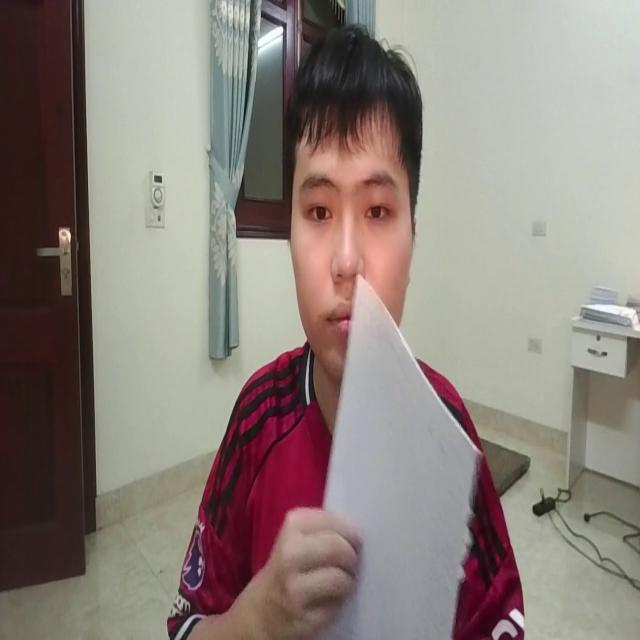book: (323, 271, 477, 640)
student: (170, 19, 521, 640)
